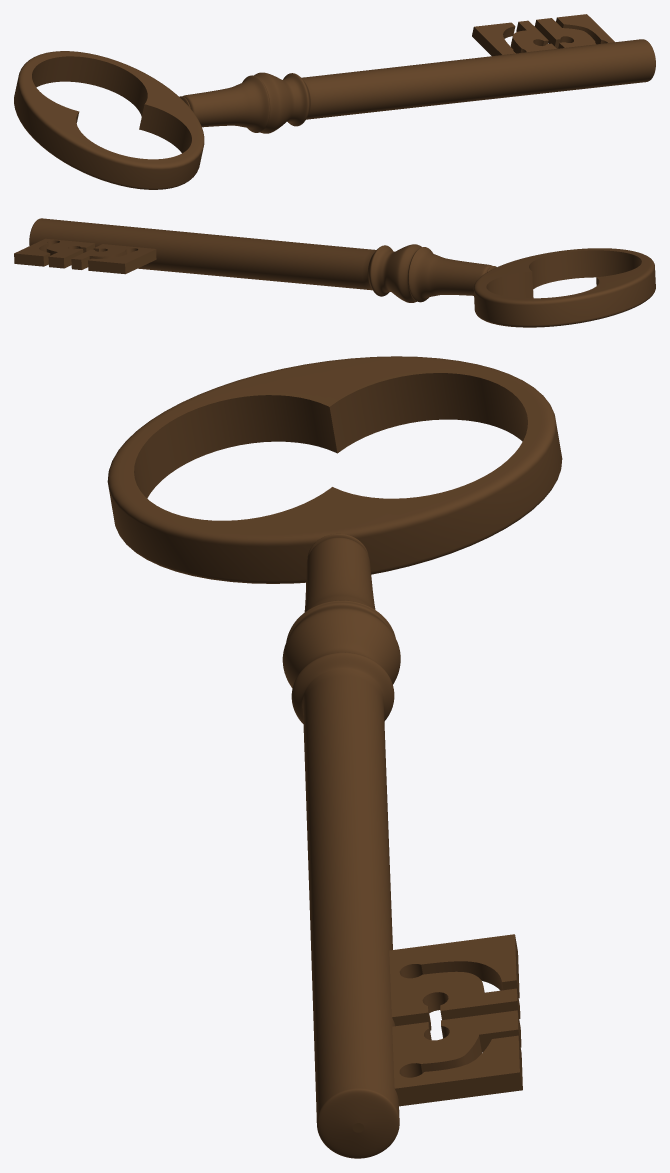
File: Key.glb
3 renders of one model, top to bottom at view 1: azimuth 30°, elevation 25°; view 2: azimuth 150°, elevation 25°; view 3: azimuth 270°, elevation 25°, orthographic. The views are drawn at different scales.
Parts seen in each view (by area): view 1: Line001_Material #30_0.001, Cylinder004_Material #30_0, Box007_Material #30_0; view 2: Line001_Material #30_0.001, Cylinder004_Material #30_0, Box007_Material #30_0; view 3: Cylinder004_Material #30_0, Line001_Material #30_0.001, Box007_Material #30_0.
Part boxes in pixels (x1,y1,x2,y2): Line001_Material #30_0.001: (179,39,655,133); Cylinder004_Material #30_0: (14,51,204,189); Box007_Material #30_0: (472,14,614,55); Line001_Material #30_0.001: (29,218,496,302); Cylinder004_Material #30_0: (473,248,655,327); Box007_Material #30_0: (14,238,156,274); Cylinder004_Material #30_0: (107,356,562,583); Line001_Material #30_0.001: (282,533,400,1158); Box007_Material #30_0: (389,934,522,1106).
Size of the model in its own units: 0.8448 by 0.1648 by 0.2796.
